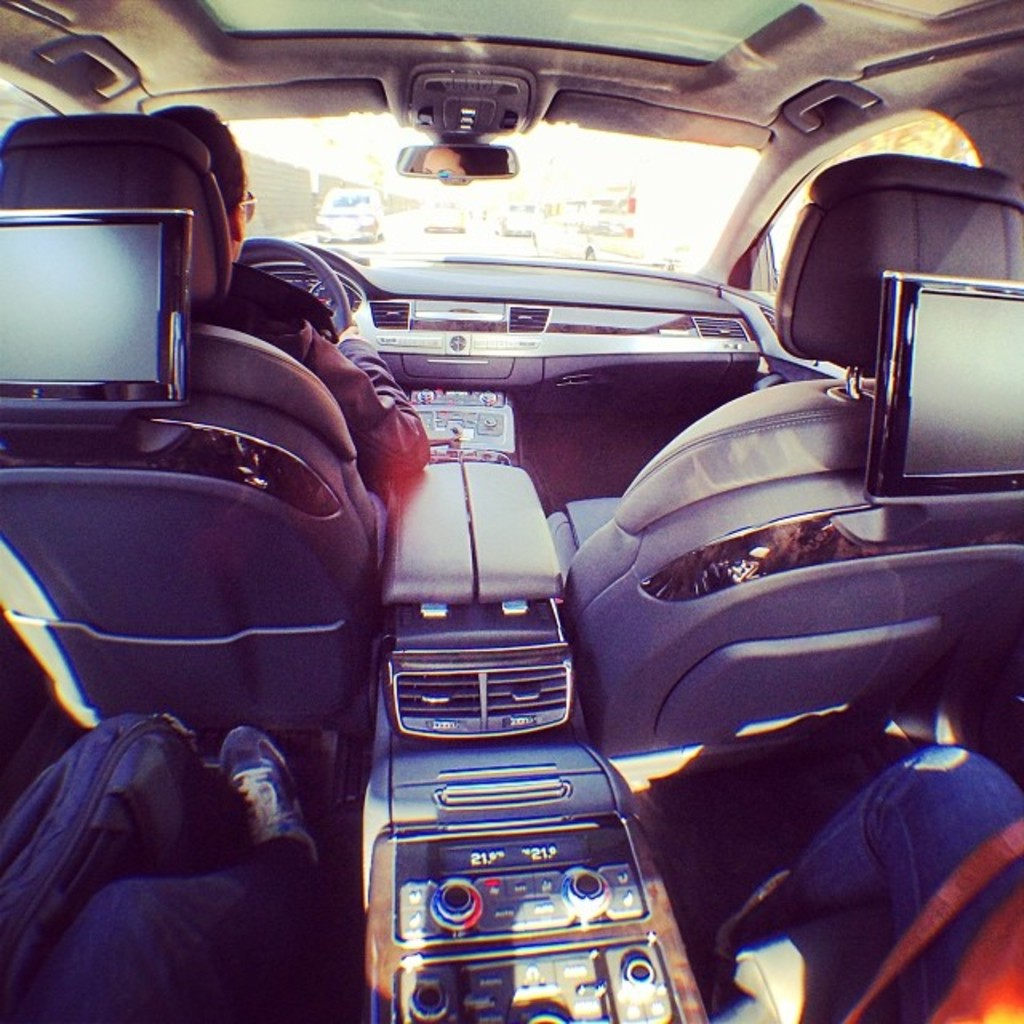Car: (0, 0, 1022, 1022), (313, 185, 376, 243), (416, 203, 467, 238), (496, 212, 539, 238)
